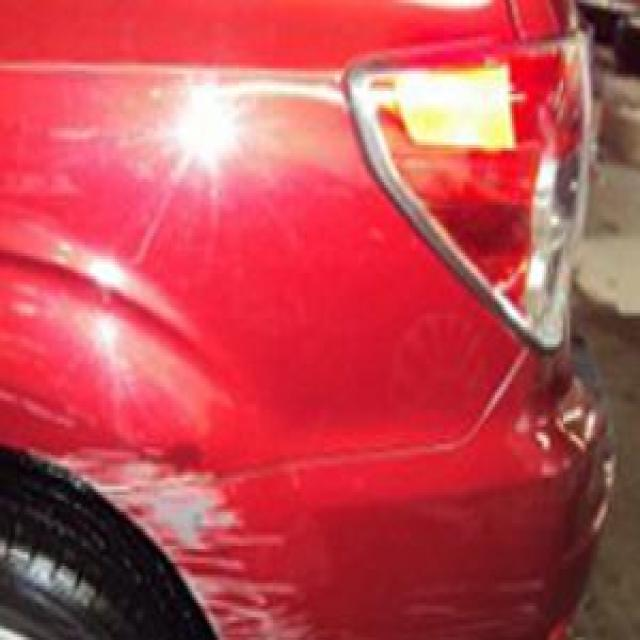scratch: (52, 438, 358, 640)
